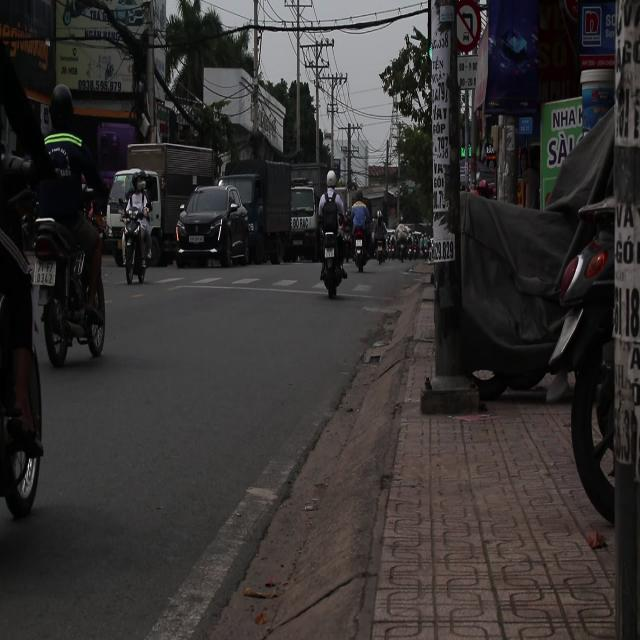car: (176, 185, 251, 267)
motorbike: (26, 206, 108, 367), (114, 185, 158, 284), (316, 191, 347, 300), (354, 215, 369, 277)
truck: (128, 144, 220, 260), (218, 159, 296, 264), (288, 187, 316, 258)
